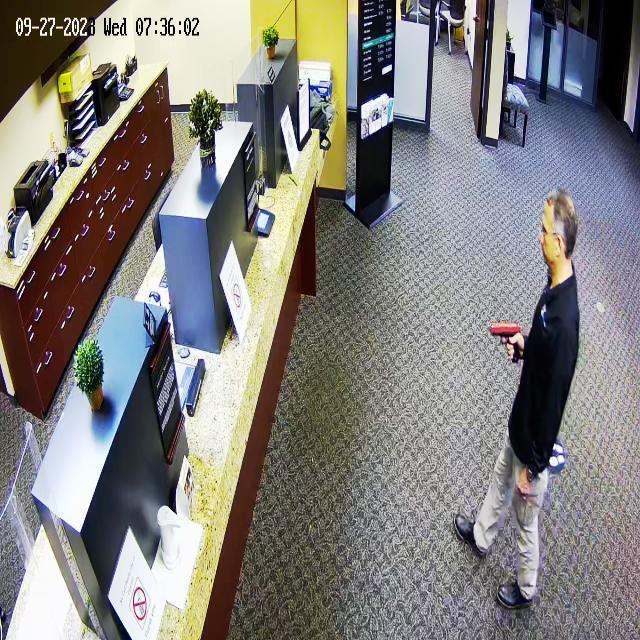Gun: (482, 306, 532, 373)
